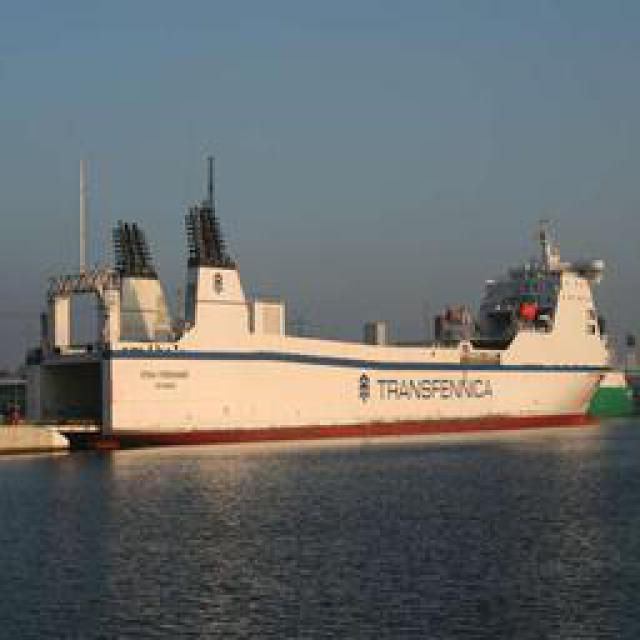Ship: (52, 189, 622, 444)
